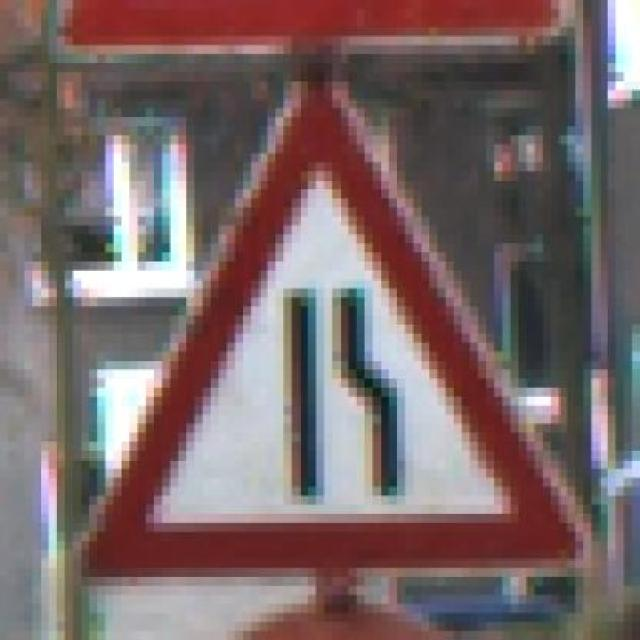-Road narrows on right: (57, 72, 608, 586)
